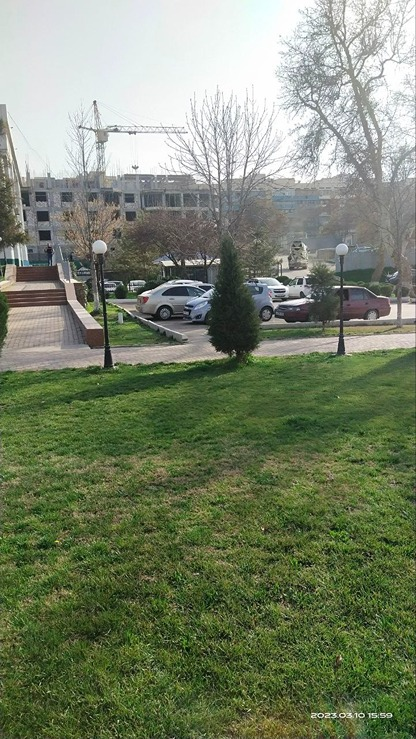car: (186, 279, 274, 332), (277, 284, 399, 320), (129, 272, 203, 315), (250, 274, 294, 298), (288, 273, 315, 294)
tree: (270, 0, 416, 249), (168, 75, 272, 234), (207, 234, 261, 360), (66, 190, 124, 305), (138, 209, 213, 270), (304, 261, 341, 328)
